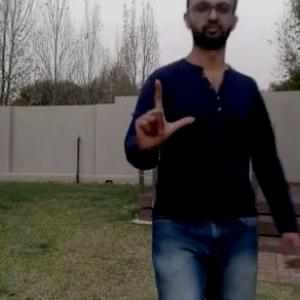land_hand: (127, 73, 200, 161)
